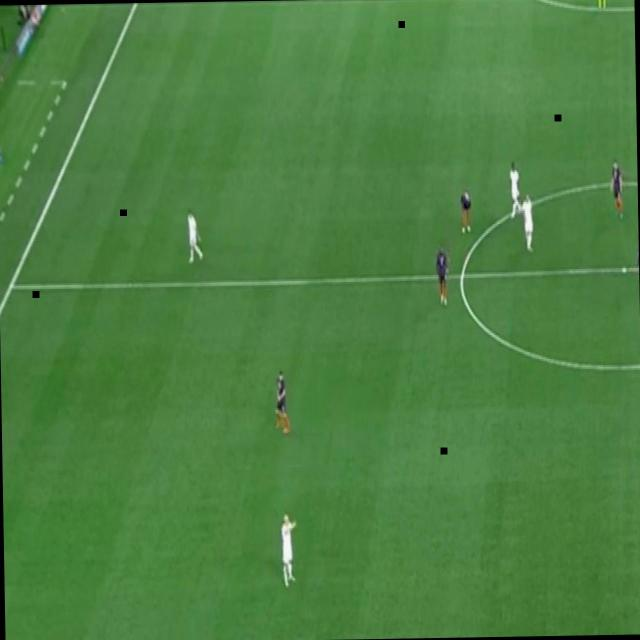player-white: (279, 510, 300, 592), (430, 240, 454, 310), (270, 366, 292, 440), (185, 202, 206, 270), (607, 155, 626, 228), (518, 189, 536, 257), (506, 156, 522, 225), (457, 186, 473, 240), (634, 234, 640, 302), (634, 288, 640, 352), (570, 628, 592, 636)
